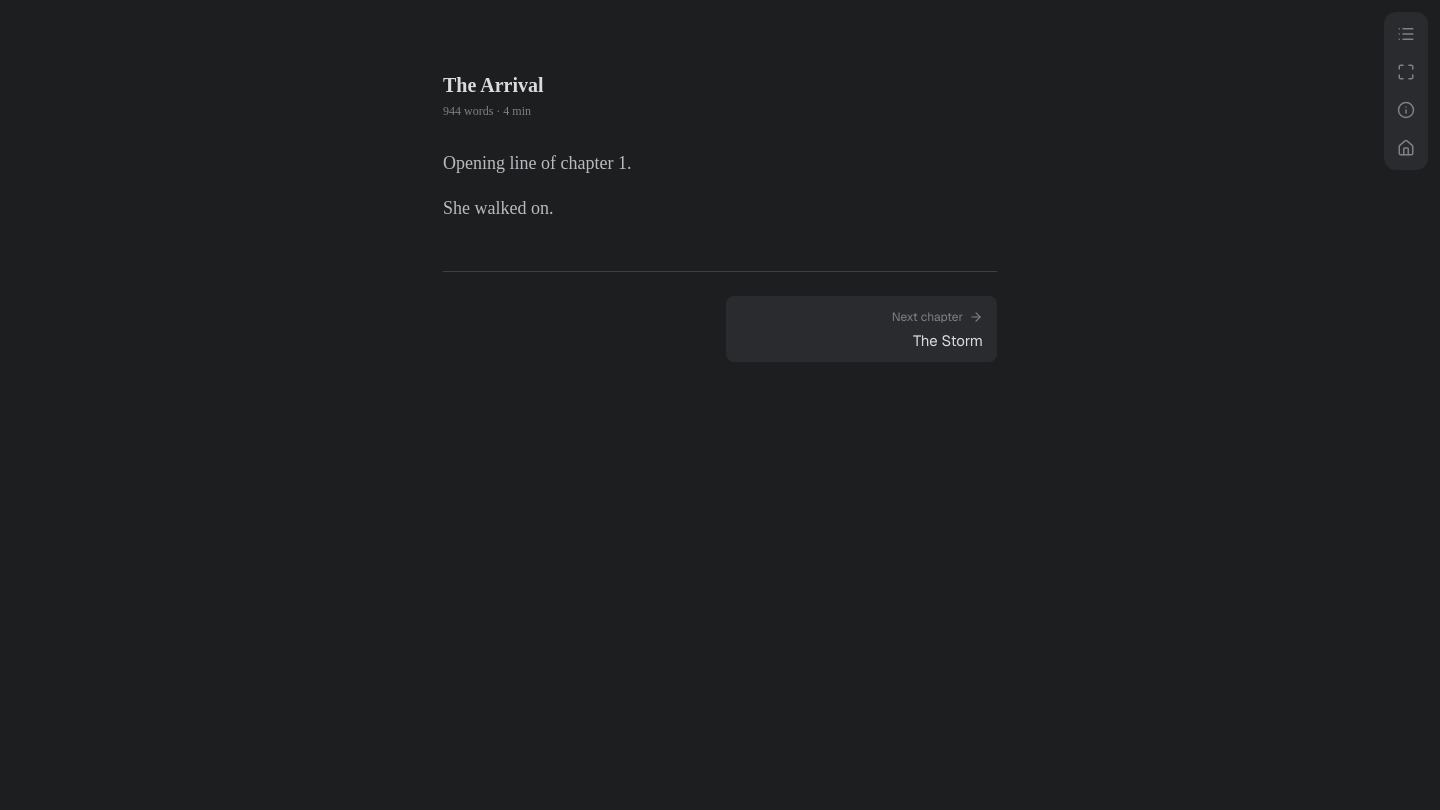
it: reader: moving between chapters › closes the chapter panel with Escape
Expected: the heading "The Arrival" is shown, [443, 74, 544, 96]
Step 1. Click the button named "Chapters" → [1406, 34], box [1388, 16, 1424, 52]
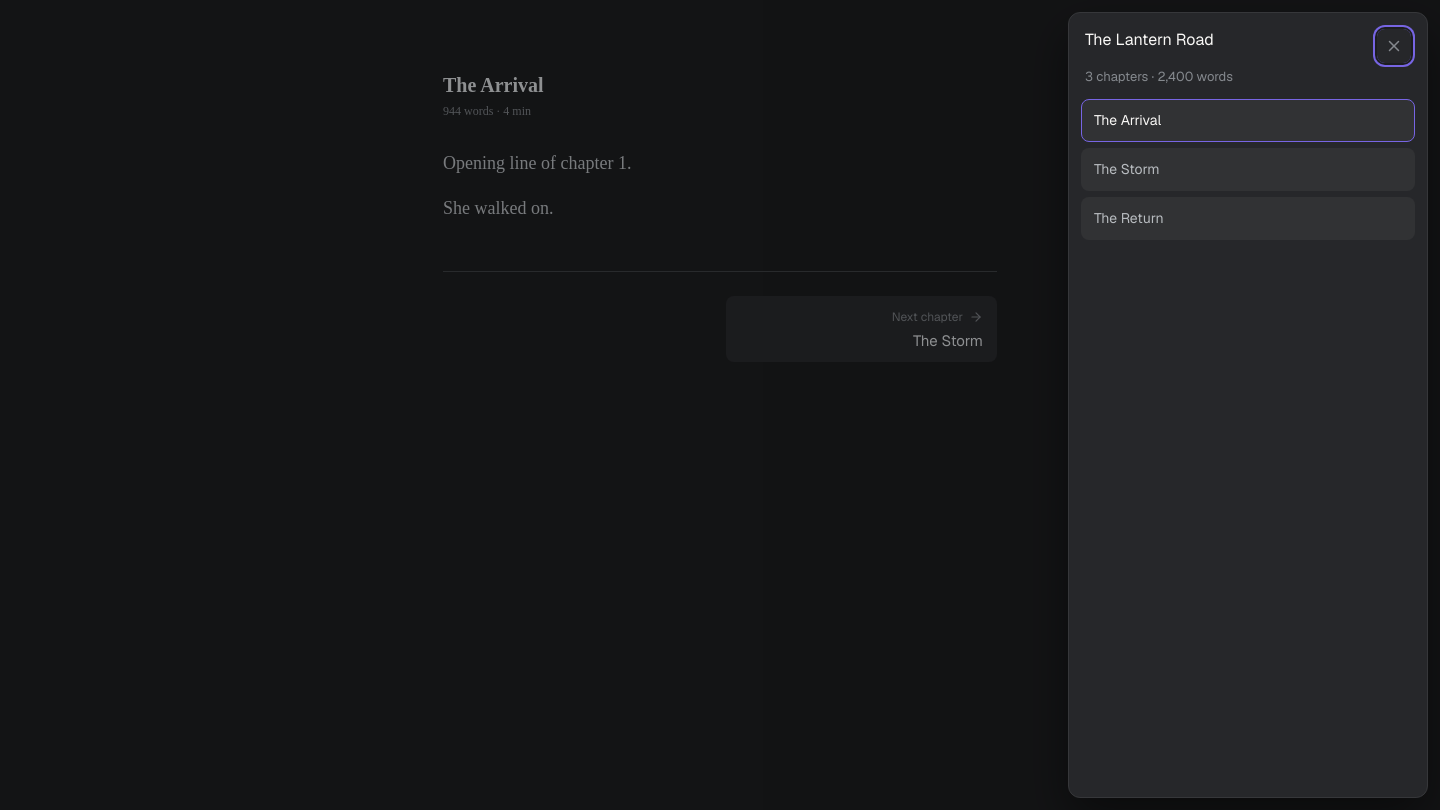
Step 2. Press Escape
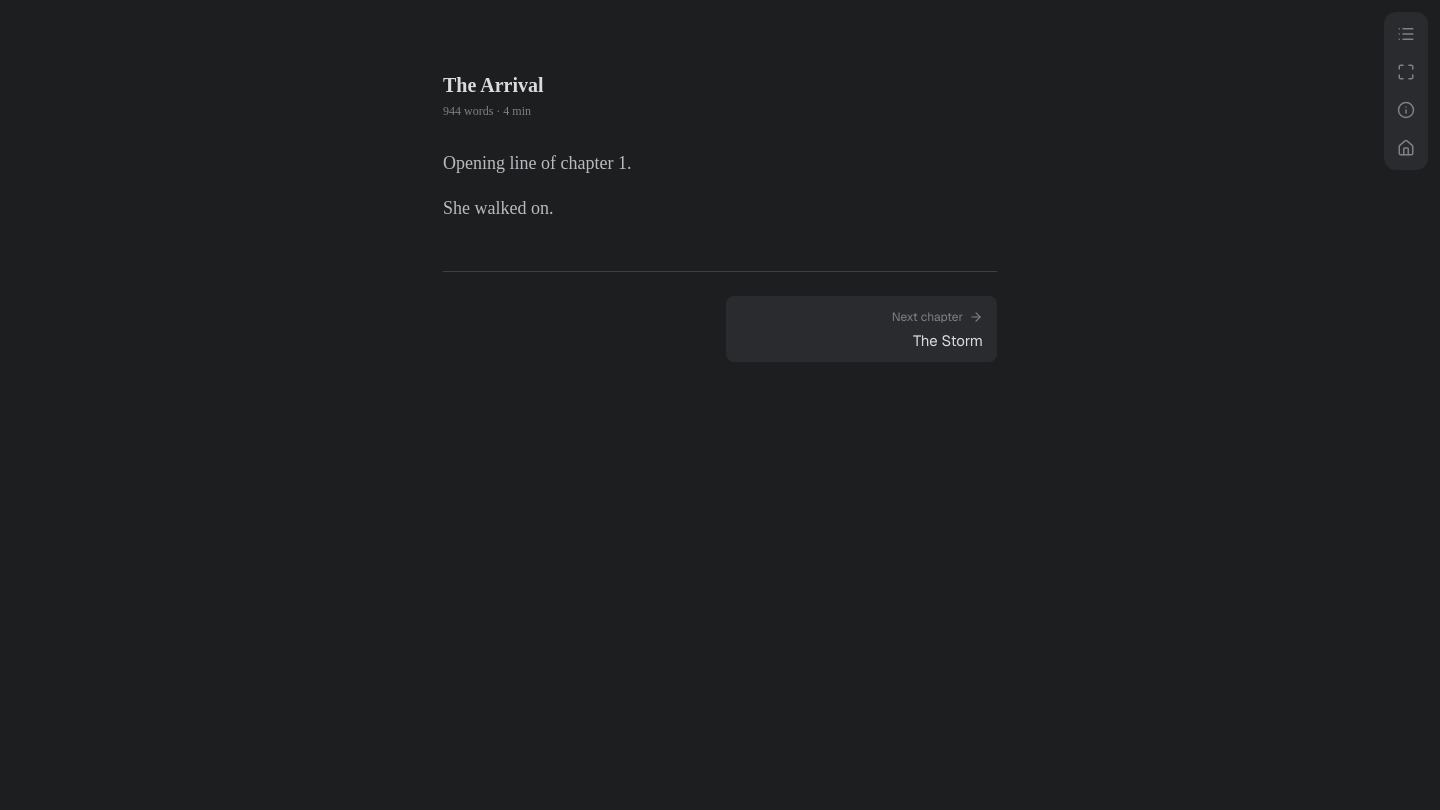
Expected: the dialog is gone
